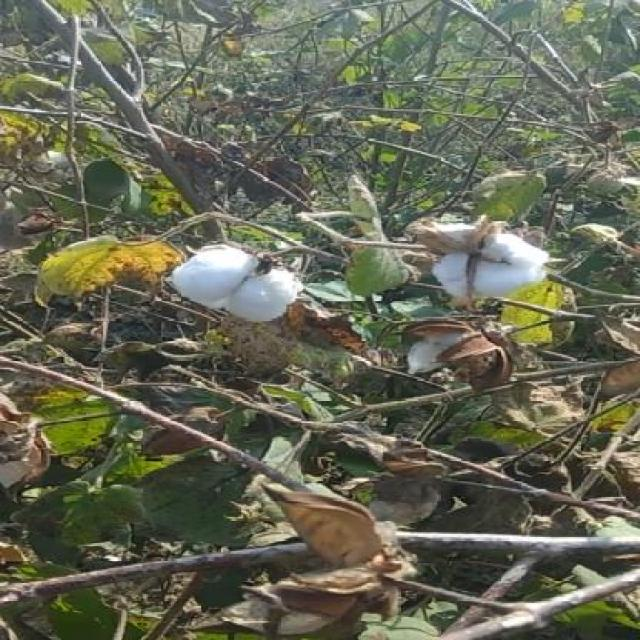cotton_ready: (404, 214, 582, 326), (165, 241, 333, 334)
